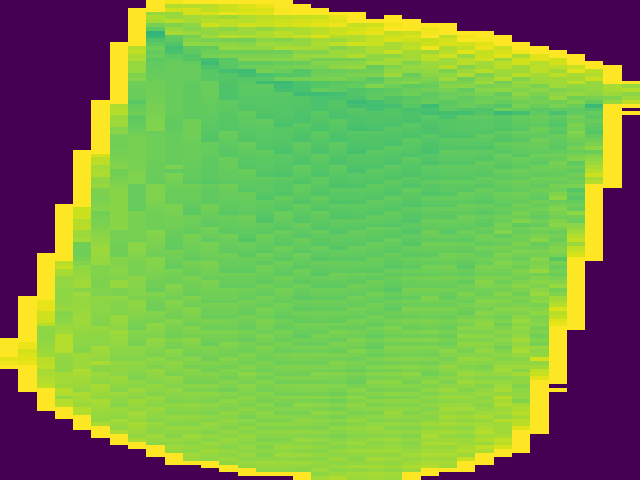cylinder: (3, 3, 640, 480)
